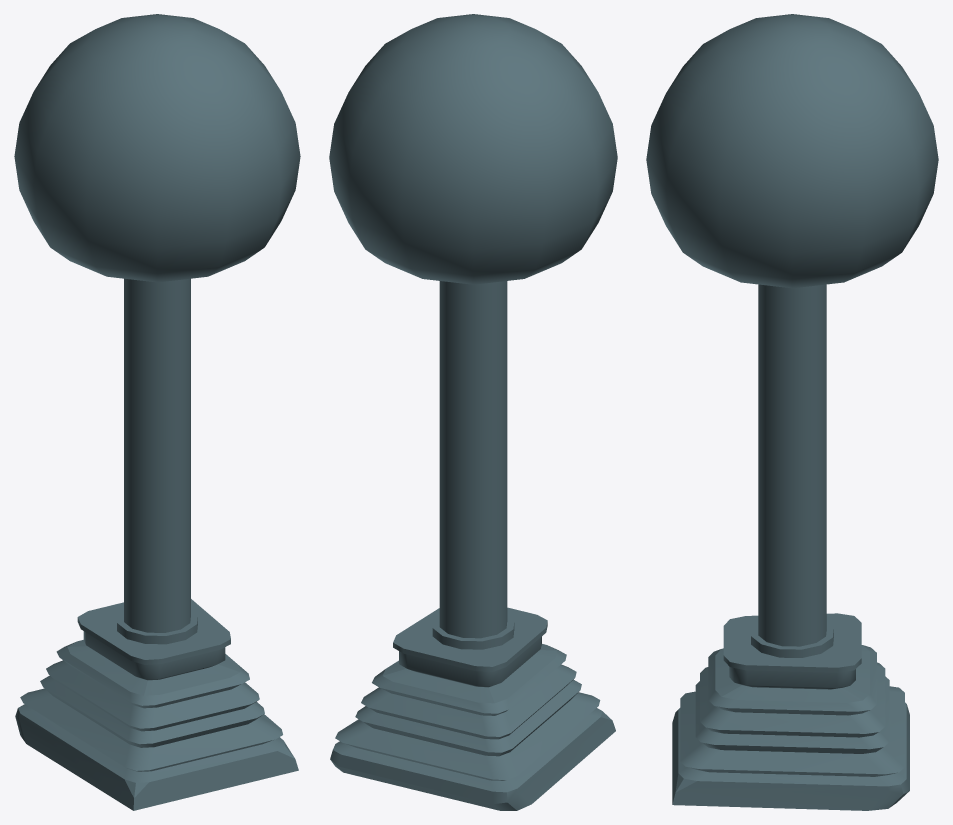
Rendered from Joystick.fbx.
3 views of the same model, side by side, from view 1: azimuth 30°, elevation 25°; view 2: azimuth 150°, elevation 25°; view 3: azimuth 270°, elevation 25° (orthographic). The views are drawn at different scales.
Visible parts, largest first — view 1: Joystick; view 2: Joystick; view 3: Joystick.
Boxes of the visible parts, bbox=[...] form: Joystick: bbox=[14, 14, 300, 810]; Joystick: bbox=[329, 14, 617, 810]; Joystick: bbox=[646, 14, 938, 810].
Size of the model in its own units: 11.81 by 32.84 by 11.81.
